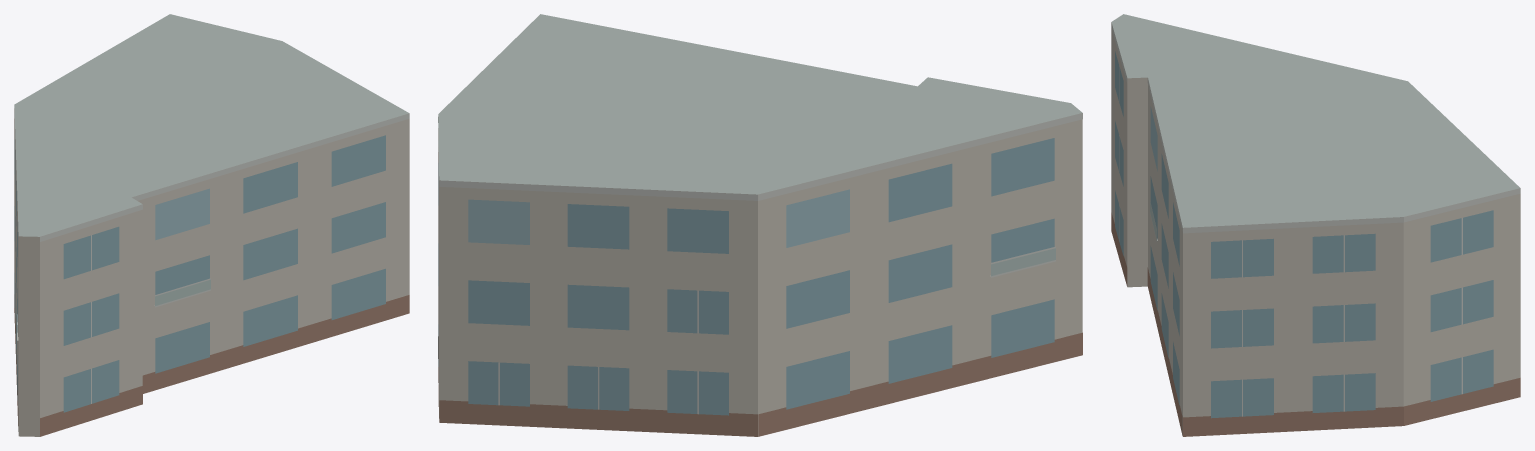
The model's file is survey-upis-32667444.glb.
The picture shows the model from 3 angles, left to right: view 1: azimuth 30°, elevation 25°; view 2: azimuth 150°, elevation 25°; view 3: azimuth 270°, elevation 25°; orthographic projection. The views are drawn at different scales.
Parts seen in each view (by area): view 1: survey-upis-32667444.tmp; view 2: survey-upis-32667444.tmp; view 3: survey-upis-32667444.tmp.
Boxes of the visible parts, bbox=[...] form: survey-upis-32667444.tmp: bbox=[14, 14, 409, 436]; survey-upis-32667444.tmp: bbox=[438, 14, 1082, 436]; survey-upis-32667444.tmp: bbox=[1111, 14, 1520, 436].
Size of the model in its own units: 20.08 by 9.15 by 16.24.
